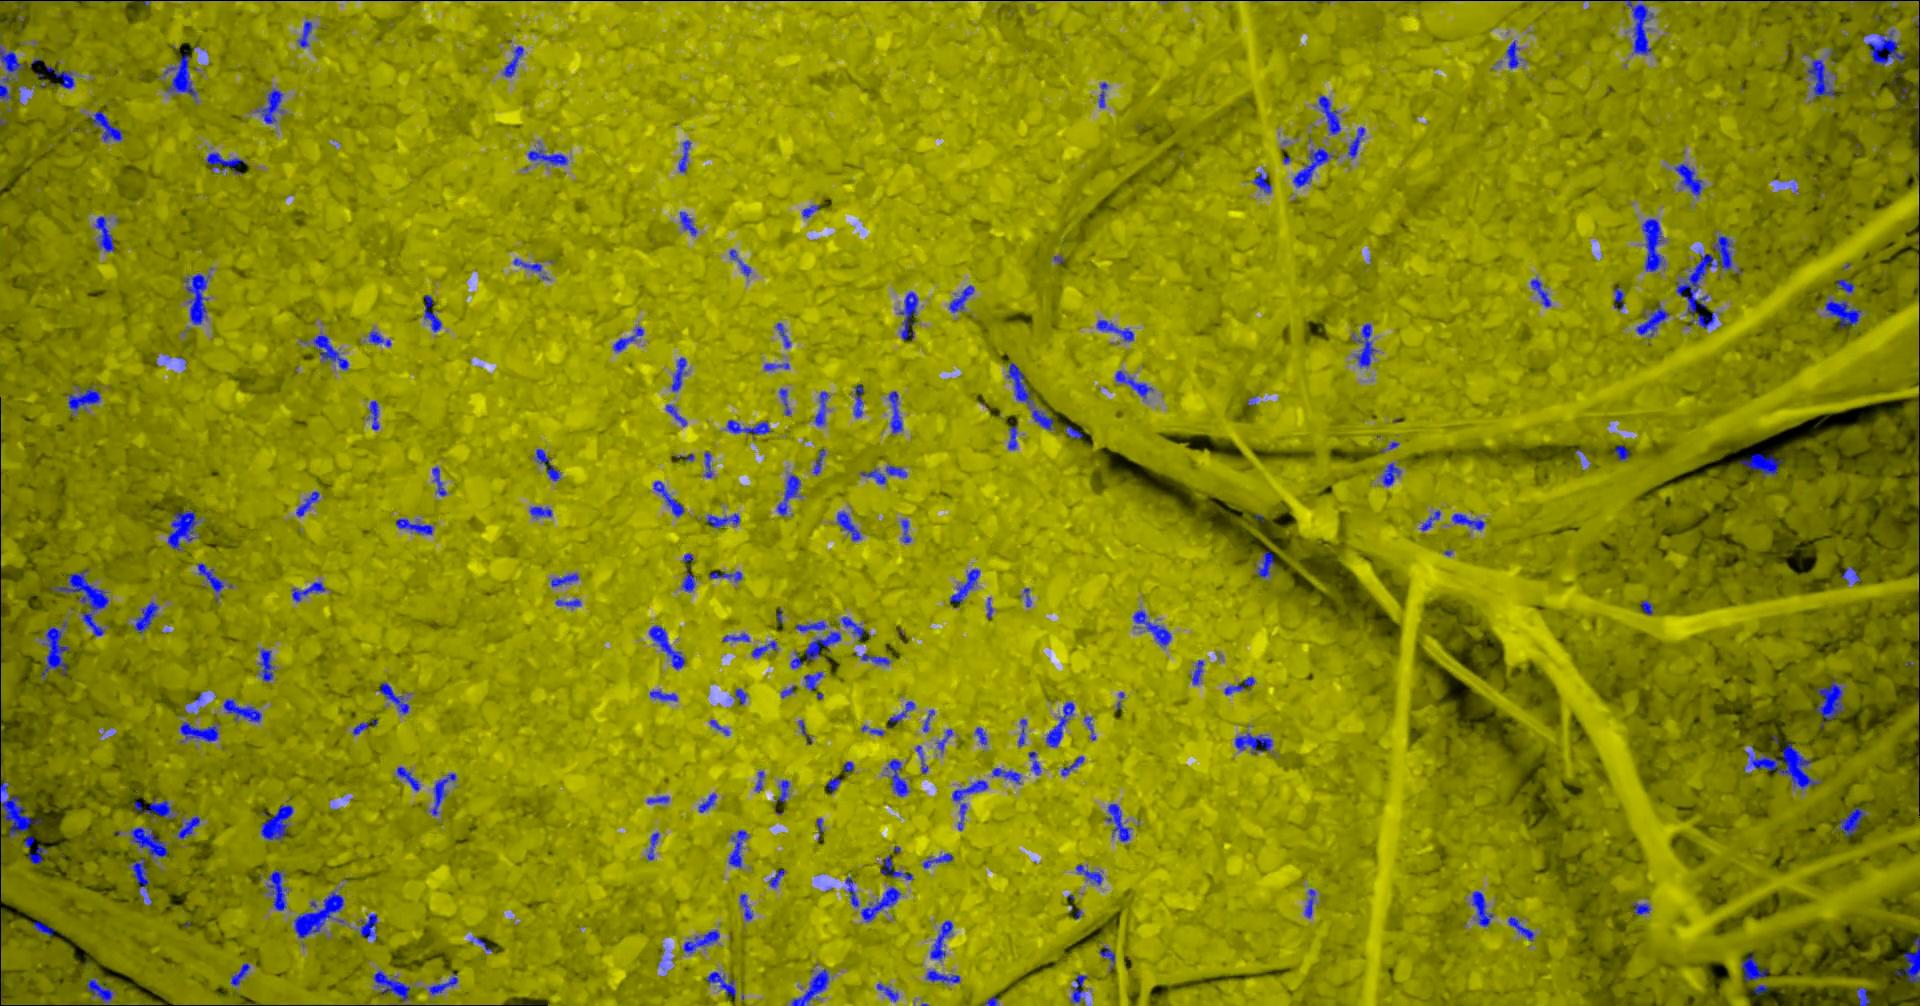ant: (0, 775, 42, 865), (1006, 362, 1053, 429), (293, 890, 343, 937), (951, 779, 987, 829), (648, 624, 684, 669), (41, 620, 69, 680), (1291, 147, 1333, 187), (1624, 0, 1653, 55), (163, 53, 196, 102), (1131, 610, 1171, 648), (860, 887, 902, 921), (790, 968, 828, 1005), (1045, 701, 1074, 747), (1815, 680, 1843, 727), (1867, 29, 1905, 64), (183, 273, 208, 324), (168, 509, 199, 550), (312, 334, 348, 370), (0, 46, 23, 100), (130, 826, 168, 857), (1641, 218, 1663, 271), (1806, 58, 1835, 99), (260, 804, 293, 840), (1351, 323, 1377, 368), (372, 970, 410, 1001), (428, 772, 455, 815), (1895, 936, 1919, 983), (1636, 302, 1669, 337), (1738, 452, 1783, 478), (653, 480, 684, 516), (196, 561, 223, 601), (804, 631, 841, 661), (1823, 298, 1862, 326), (1114, 370, 1152, 398), (88, 111, 122, 141), (949, 568, 979, 602), (1103, 803, 1130, 841), (776, 474, 800, 516), (255, 88, 283, 123), (897, 291, 917, 339), (378, 681, 409, 713), (1674, 163, 1703, 196), (135, 796, 177, 819), (930, 920, 952, 960), (885, 758, 909, 796), (222, 699, 262, 721), (858, 465, 905, 484), (682, 929, 719, 953), (204, 152, 246, 173), (1837, 807, 1865, 837), (1318, 94, 1340, 133), (1096, 319, 1133, 342), (67, 386, 100, 412), (265, 869, 286, 909), (1234, 732, 1272, 753), (1470, 890, 1493, 926), (705, 970, 735, 997), (535, 448, 560, 480), (880, 854, 912, 879), (133, 600, 157, 633), (93, 215, 114, 251), (1741, 951, 1768, 981), (728, 829, 748, 868), (179, 721, 218, 741), (43, 62, 72, 88), (836, 511, 861, 540), (86, 976, 112, 1005), (612, 326, 643, 351), (427, 972, 458, 995), (726, 419, 770, 436), (888, 700, 914, 727), (291, 580, 325, 601), (502, 44, 523, 76), (423, 293, 441, 332), (949, 285, 973, 312), (527, 149, 568, 165), (1507, 916, 1534, 940), (728, 249, 750, 277), (130, 857, 149, 890), (257, 647, 274, 681), (1530, 277, 1550, 306), (888, 391, 902, 433), (295, 492, 319, 516), (395, 766, 419, 790), (1076, 864, 1102, 885), (1223, 676, 1255, 694), (395, 518, 432, 533), (177, 815, 199, 840), (706, 512, 739, 528), (1451, 513, 1484, 530), (681, 553, 695, 591), (1347, 126, 1364, 158), (1070, 973, 1087, 1005), (670, 357, 686, 391), (841, 616, 863, 639), (1060, 754, 1084, 775), (230, 962, 249, 987), (814, 391, 828, 426), (924, 969, 959, 983), (1256, 550, 1274, 577), (359, 913, 377, 940), (1418, 509, 1440, 531), (990, 767, 1021, 782), (935, 728, 952, 753), (1505, 39, 1520, 69), (430, 466, 446, 495), (750, 640, 777, 657), (665, 404, 686, 426), (1382, 462, 1399, 486), (922, 854, 952, 868), (844, 876, 858, 907), (352, 718, 377, 734), (1252, 171, 1271, 193), (679, 211, 696, 235), (513, 257, 541, 271), (858, 653, 889, 666), (28, 845, 48, 864), (876, 983, 898, 1001), (32, 920, 55, 936), (469, 935, 491, 951), (297, 20, 311, 47), (366, 400, 378, 429), (914, 744, 927, 774), (775, 323, 790, 347), (678, 140, 690, 171), (794, 620, 825, 631), (803, 671, 822, 690), (697, 793, 716, 812), (550, 573, 578, 586), (1098, 945, 1114, 968), (811, 448, 824, 475), (1841, 567, 1860, 584), (739, 893, 752, 920), (797, 720, 811, 744), (853, 384, 863, 417), (709, 570, 742, 580), (709, 719, 729, 735), (1304, 888, 1316, 917), (368, 330, 390, 345), (778, 387, 790, 415), (649, 690, 677, 701), (775, 779, 789, 801), (1190, 659, 1203, 683), (1855, 986, 1870, 1005), (1083, 716, 1095, 741), (860, 724, 884, 735), (530, 506, 551, 518), (922, 709, 935, 730), (1836, 278, 1854, 293), (648, 832, 658, 859), (768, 869, 783, 887), (1029, 751, 1040, 774), (1613, 445, 1629, 460), (1017, 718, 1026, 746), (1613, 287, 1624, 309), (703, 451, 712, 478), (723, 633, 749, 641), (1007, 426, 1017, 448), (900, 520, 910, 542), (754, 770, 764, 793), (825, 776, 841, 791), (1065, 424, 1082, 438), (1098, 81, 1107, 107), (801, 205, 819, 217), (555, 598, 580, 607), (1632, 902, 1650, 915), (790, 652, 803, 668), (974, 727, 985, 744), (763, 362, 789, 370), (734, 688, 745, 704), (646, 795, 669, 803), (1641, 600, 1652, 614), (23, 835, 34, 848), (1752, 984, 1768, 995), (0, 704, 1, 767)
